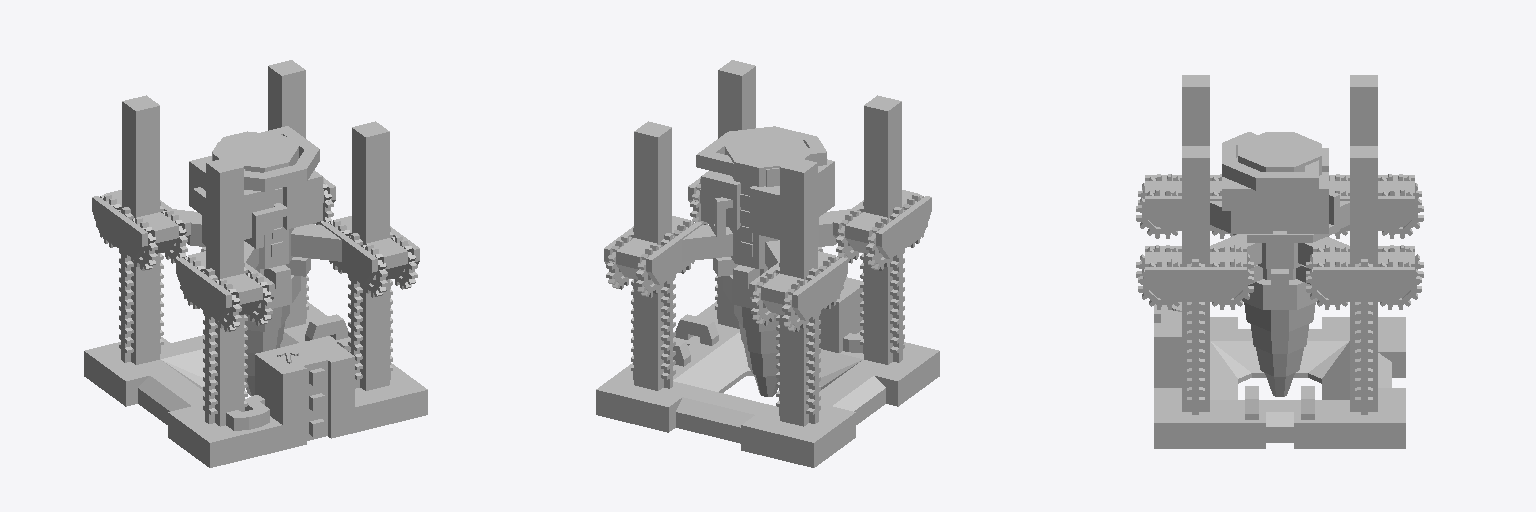
File: coredrill.obj
3 views of the same model, side by side, from view 1: azimuth 30°, elevation 25°; view 2: azimuth 150°, elevation 25°; view 3: azimuth 270°, elevation 25° (orthographic).
Visible parts, largest first — view 1: concrete_base; view 2: concrete_base; view 3: concrete_base.
Part boxes in pixels (x1,y1,x2,y2): concrete_base: (84,60,427,467); concrete_base: (596,60,939,467); concrete_base: (1136,75,1423,448).
Bounding box in the file's own units: 9 × 11 × 10.25.